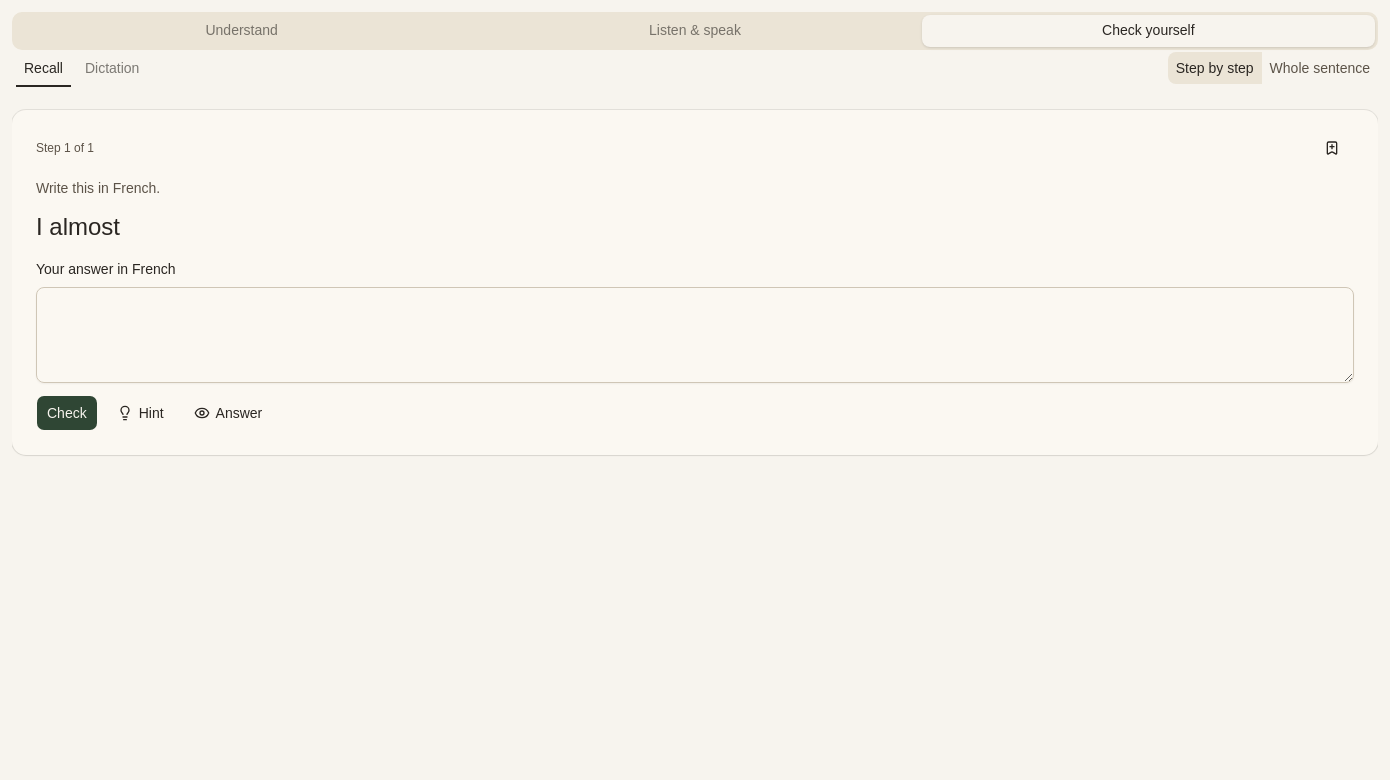
Test: Recall exercise layout › standalone=false › coordinates toolbar, meta and card in step scope
Expected: the number of elements named "Tool group" is 1, [12,12,1378,50]
Expected: the element named "Practice scope" is shown, [1168,52,1378,84]
Click the button "Hint" at (140, 413), box [106,395,175,431]
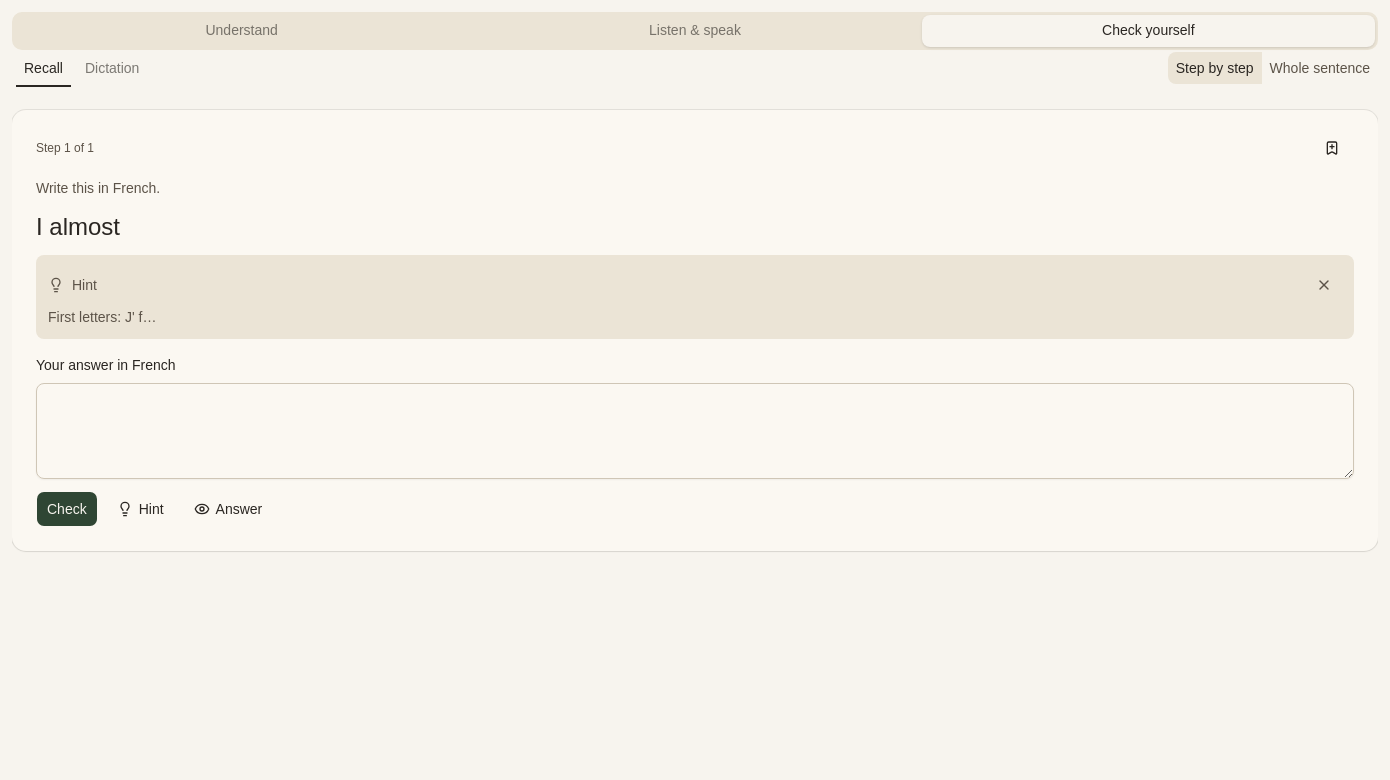
Click the button "Answer" at (228, 509), box [183,491,273,527]
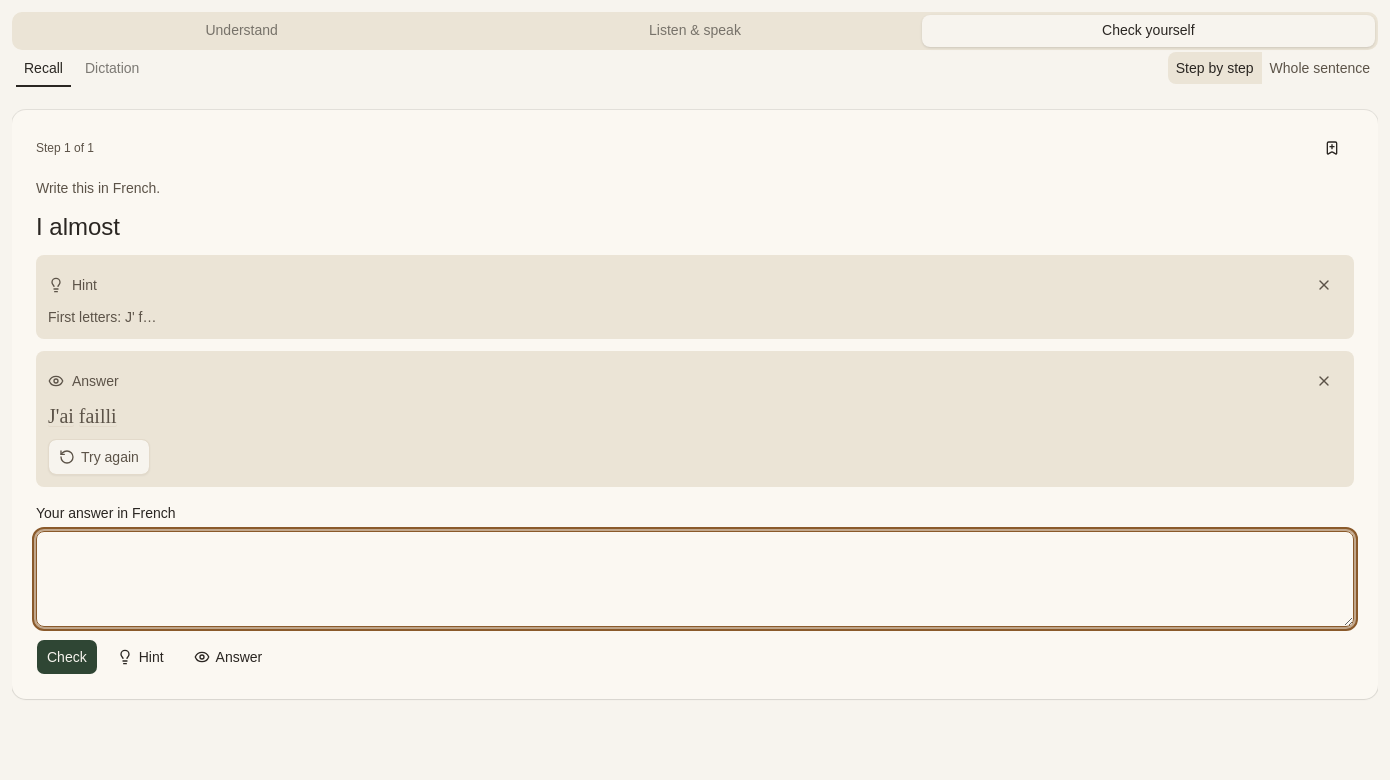
Now the element showing "Hint" is shown, box [48,267,1342,303]
Now the element showing "Answer" is shown, box [48,363,1342,399]
Now the message named "Answer" shows "Try again", box [48,438,150,474]
